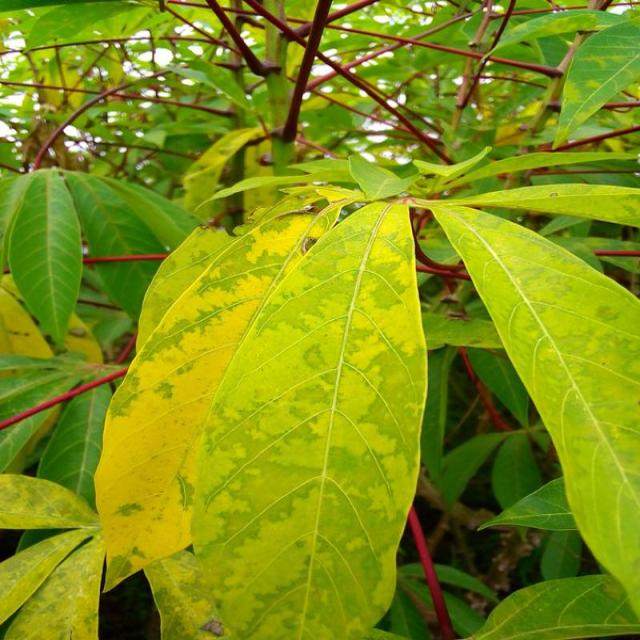cassava leaf: (94, 194, 430, 638), (417, 197, 640, 622)
